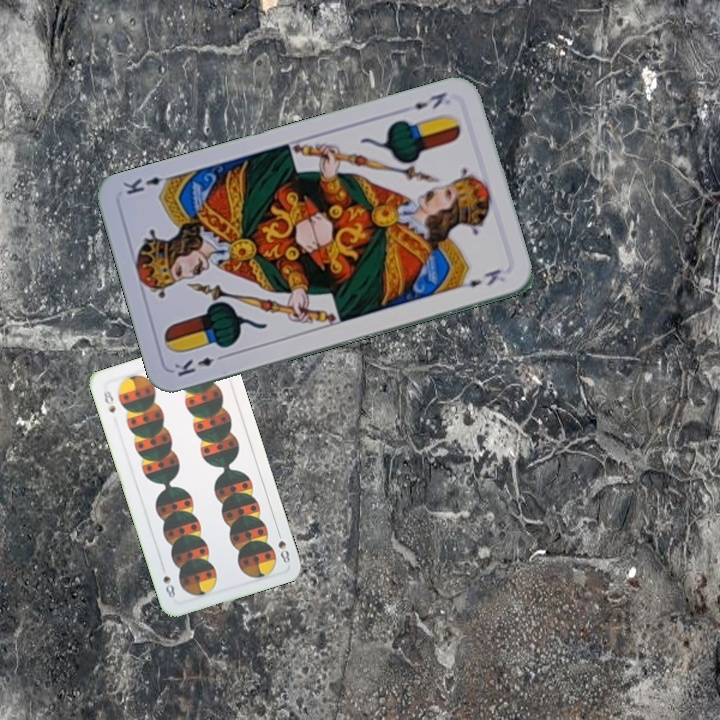EK: (170, 350, 229, 380), (410, 88, 449, 112)
S8: (273, 526, 293, 566), (99, 385, 118, 416)
